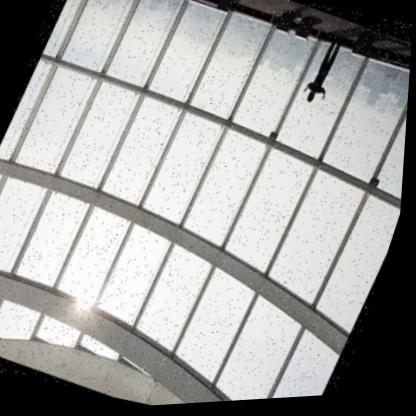Window: (217, 136, 325, 287), (173, 120, 277, 259), (93, 83, 191, 217), (134, 106, 230, 235)
